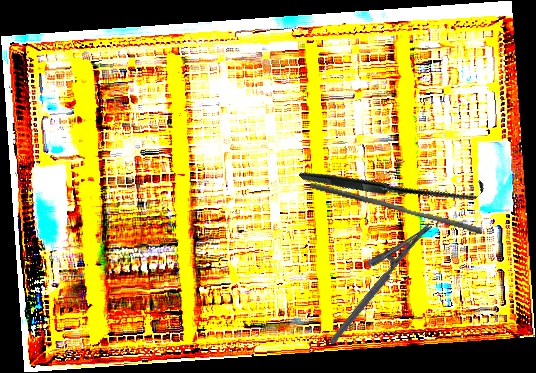Hook Surgical: (298, 87, 488, 276)
Needle Holder: (312, 209, 434, 345)
Pusher: (306, 181, 486, 236)
